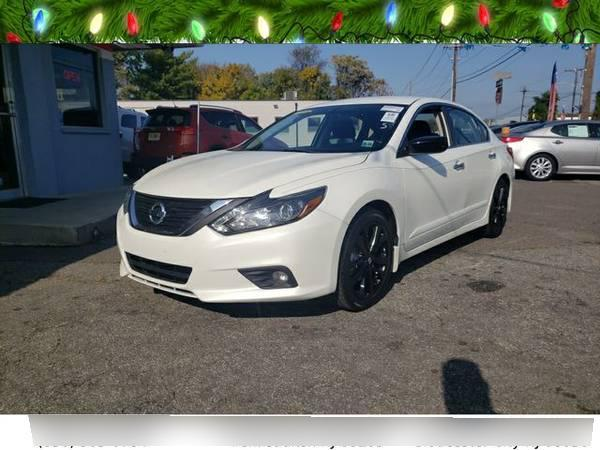Front_Bumper: (115, 209, 349, 304)
Front_Fender: (270, 148, 402, 263)
Front_Left_Door: (395, 151, 465, 262)
Front_Left_Window: (394, 106, 453, 161)
Front_Windshield: (230, 103, 407, 155)
Grille: (124, 188, 248, 238)
Hood: (131, 147, 369, 197)
Left_Headlight: (207, 185, 326, 237)
Rear_Fender: (488, 129, 514, 178)
Rear_Left_Door: (449, 144, 501, 231)
Rear_Left_Window: (442, 106, 490, 149)
Roof: (304, 95, 467, 154)
Wheel: (340, 205, 398, 305), (490, 178, 509, 233)
